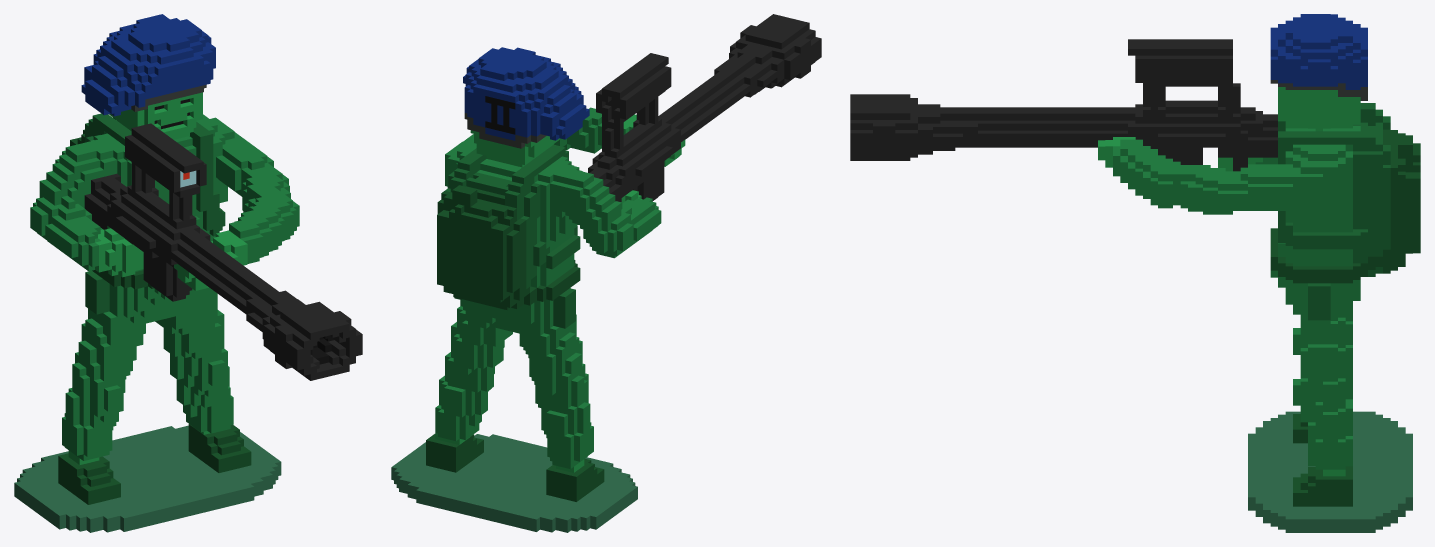
Rendered from snajper_soldier_LVL2_4.0.obj.
3 renders of one model, left to right at view 1: azimuth 30°, elevation 25°; view 2: azimuth 150°, elevation 25°; view 3: azimuth 270°, elevation 25°, orthographic. The views are drawn at different scales.
Bounding box in the file's own units: 3.5 × 6.7 × 7.6.
1 material, 1 textured.
